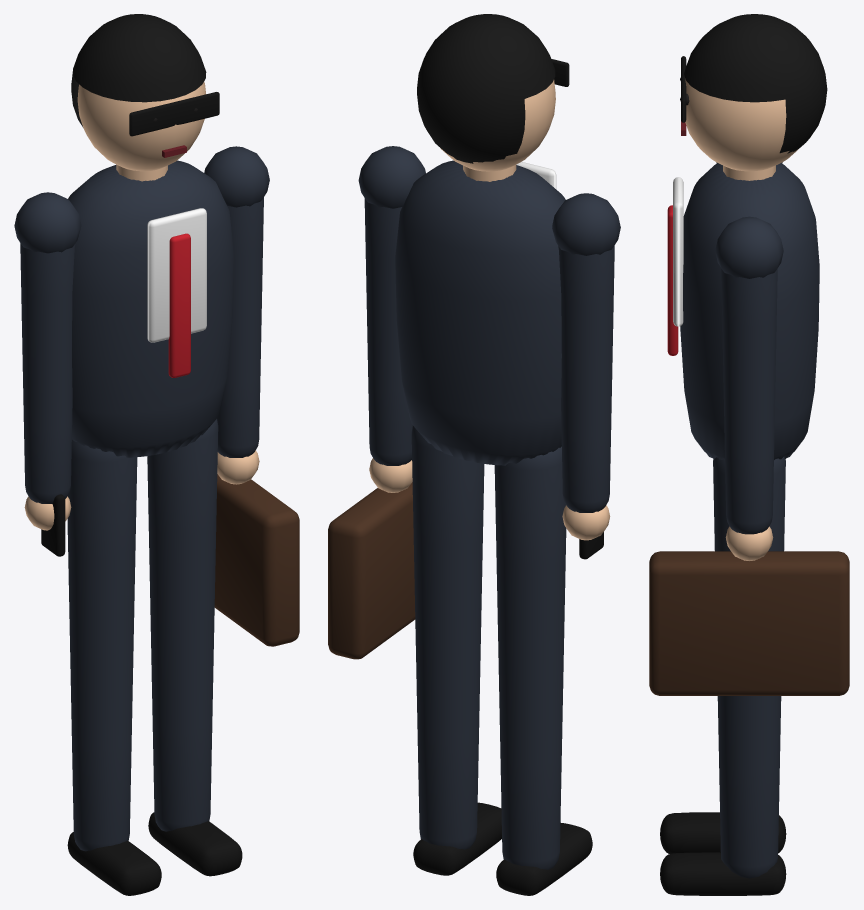
Rendered from salaryman.glb.
3 views of the same model, side by side, from view 1: azimuth 30°, elevation 25°; view 2: azimuth 150°, elevation 25°; view 3: azimuth 270°, elevation 25° (orthographic). The views are drawn at different scales.
Parts seen in each view (by area): view 1: salaryman_torso, salaryman_leg_mesh_r, salaryman_leg_mesh_l, salaryman_arm_mesh_l, salaryman_face, salaryman_arm_mesh_r; view 2: salaryman_torso, salaryman_leg_mesh_r, salaryman_leg_mesh_l, salaryman_arm_mesh_l, salaryman_face, salaryman_arm_mesh_r; view 3: salaryman_arm_mesh_l, salaryman_torso, salaryman_face, salaryman_leg_mesh_l, salaryman_leg_mesh_r.
Part boxes in pixels (<box>): salaryman_torso: <box>68,160,234,457</box>; salaryman_leg_mesh_r: <box>67,439,161,895</box>; salaryman_leg_mesh_l: <box>147,419,242,876</box>; salaryman_arm_mesh_l: <box>204,146,299,646</box>; salaryman_face: <box>71,14,219,181</box>; salaryman_arm_mesh_r: <box>14,192,81,556</box>; salaryman_torso: <box>395,160,565,465</box>; salaryman_leg_mesh_r: <box>494,446,592,895</box>; salaryman_leg_mesh_l: <box>411,425,501,875</box>; salaryman_arm_mesh_l: <box>328,146,425,659</box>; salaryman_face: <box>417,14,569,181</box>; salaryman_arm_mesh_r: <box>552,193,620,559</box>; salaryman_arm_mesh_l: <box>649,216,849,695</box>; salaryman_torso: <box>667,163,819,459</box>; salaryman_face: <box>680,14,827,180</box>; salaryman_leg_mesh_l: <box>660,457,786,895</box>; salaryman_leg_mesh_r: <box>660,812,786,853</box>.
Size of the model in its own units: 0.55 by 1.78 by 0.38.
